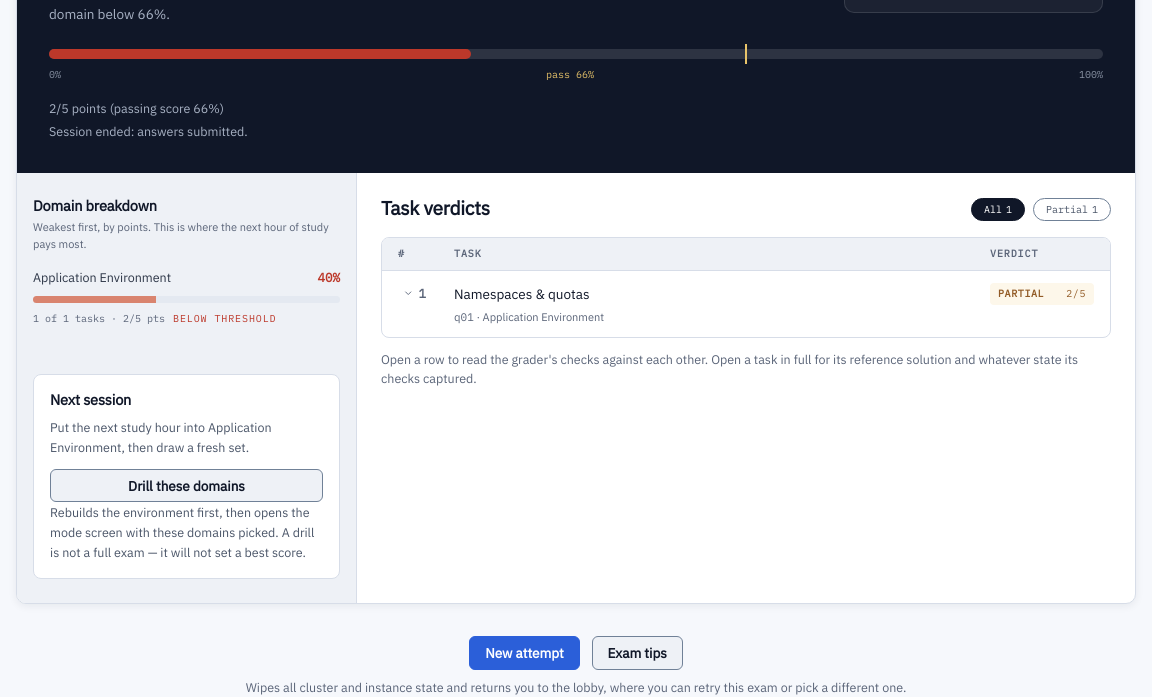
the exam tips opener › opens the bank's tips when it does
(page scrolled)
Click the button "Exam tips": (637, 653) [592, 636, 683, 670]
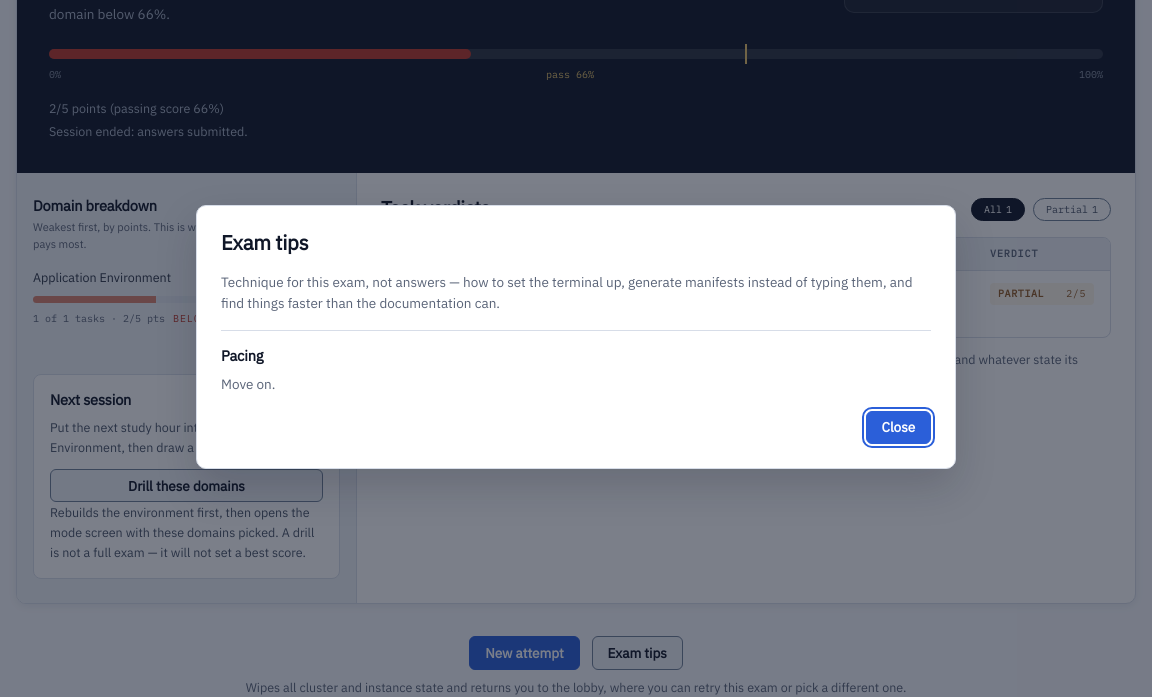
Expected: the dialog "Exam tips" is shown, [196, 205, 956, 469]
Expected: the heading "Pacing" is shown, [221, 346, 263, 365]
